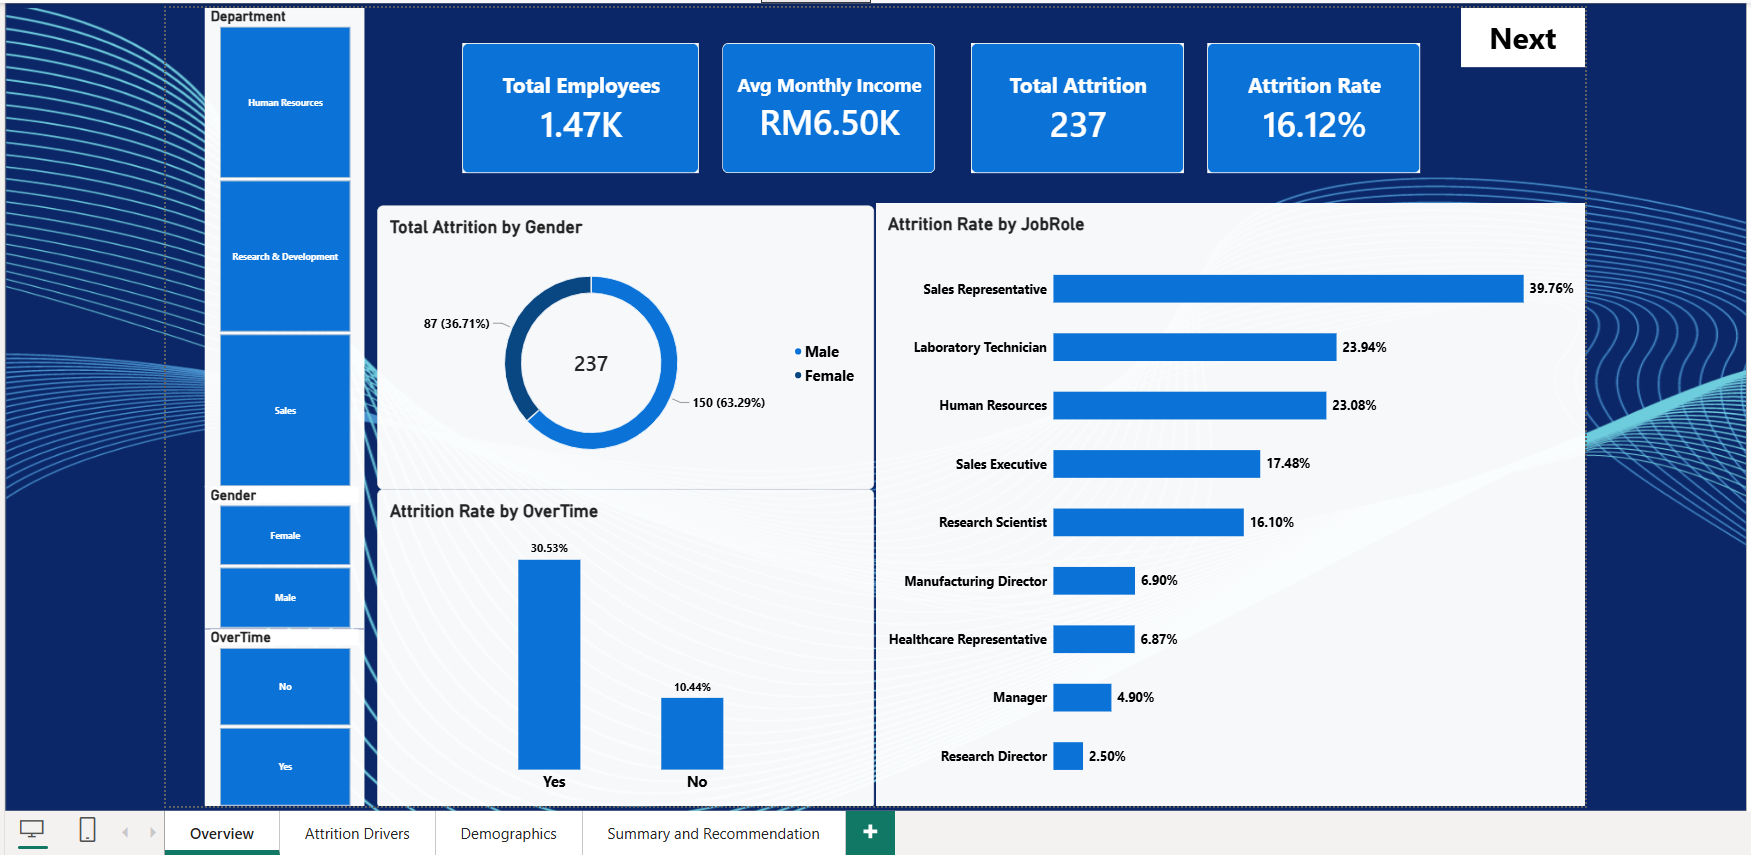

This screenshot's page, from the dashboard's own definition file:
{"tool":"powerbi","page":{"name":"Overview","canvas":[1920,1080],"ordinal":0},"visuals":[{"type":"cardVisual","fields":{"Data":["Employees.Total Employees"]},"box":[400,47,320,176],"z":0},{"type":"cardVisual","fields":{"Data":["Employees.Total Attrition"]},"box":[1088,47,288,176],"z":1000},{"type":"cardVisual","fields":{"Data":["Employees.Attrition Rate"]},"box":[1408,47,288,176],"z":2000},{"type":"cardVisual","fields":{"Data":["Employees.Avg Monthly Income"]},"box":[752,47,288,176],"z":3000},{"type":"slicer","fields":{"Values":["Employees.Department"]},"box":[52,0,216,648],"z":4000},{"type":"slicer","fields":{"Values":["Employees.Gender"]},"box":[52,648,216,192],"z":5000},{"type":"slicer","fields":{"Values":["Employees.OverTime"]},"box":[52,840,216,240],"z":6000},{"type":"clusteredBarChart","fields":{"Category":["Employees.JobRole"],"Y":["Employees.Attrition Rate"]},"box":[960,264,960,816],"z":7000},{"type":"clusteredColumnChart","fields":{"Category":["Employees.OverTime"],"Y":["Employees.Attrition Rate"]},"box":[286,651,672,432],"z":8000},{"type":"donutChart","fields":{"Category":["Employees.Gender"],"Y":["Employees.Total Attrition"]},"box":[286,267,672,384],"z":9000},{"type":"actionButton","box":[1752,0,168,80],"z":9001}]}

Visuals, with their boxes on the page's 1920x1080 design canvas (x1, y1, x2, y2). These are canvas units, not pixel positions in the 1751x855 screenshot, which may show the page scaled, cropped or inside an application window:
cardVisual - Employees.Total Employees: l=400, t=47, r=720, b=223
cardVisual - Employees.Total Attrition: l=1088, t=47, r=1376, b=223
cardVisual - Employees.Attrition Rate: l=1408, t=47, r=1696, b=223
cardVisual - Employees.Avg Monthly Income: l=752, t=47, r=1040, b=223
slicer - Employees.Department: l=52, t=0, r=268, b=648
slicer - Employees.Gender: l=52, t=648, r=268, b=840
slicer - Employees.OverTime: l=52, t=840, r=268, b=1080
clusteredBarChart - Employees.JobRole x Employees.Attrition Rate: l=960, t=264, r=1920, b=1080
clusteredColumnChart - Employees.OverTime x Employees.Attrition Rate: l=286, t=651, r=958, b=1083
donutChart - Employees.Gender x Employees.Total Attrition: l=286, t=267, r=958, b=651
actionButton: l=1752, t=0, r=1920, b=80
